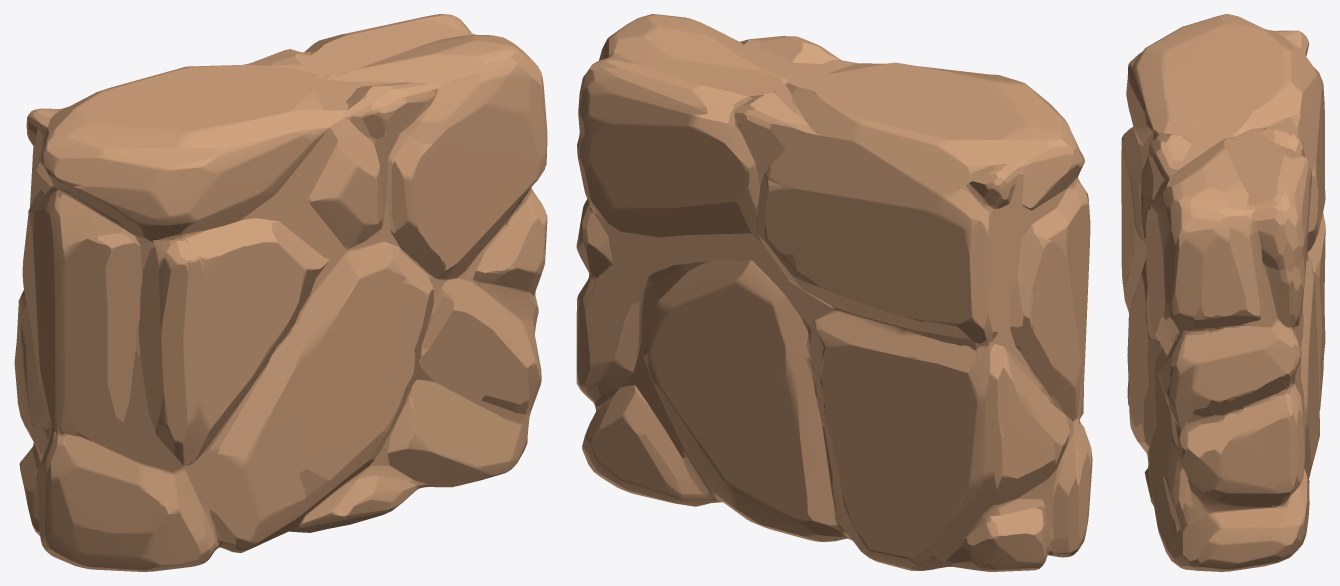
3 renders of one model, left to right at view 1: azimuth 30°, elevation 25°; view 2: azimuth 150°, elevation 25°; view 3: azimuth 270°, elevation 25°, orthographic. The views are drawn at different scales.
Visible parts, largest first — view 1: Mesh_37_LOD0; view 2: Mesh_37_LOD0; view 3: Mesh_37_LOD0.
Boxes of the visible parts, x1,y1,x2,y2 form: Mesh_37_LOD0: (14,14,547,571); Mesh_37_LOD0: (576,14,1092,571); Mesh_37_LOD0: (1121,14,1325,571).
Size of what is drawn, in the model's own units: 2531 by 2147 by 1049.
